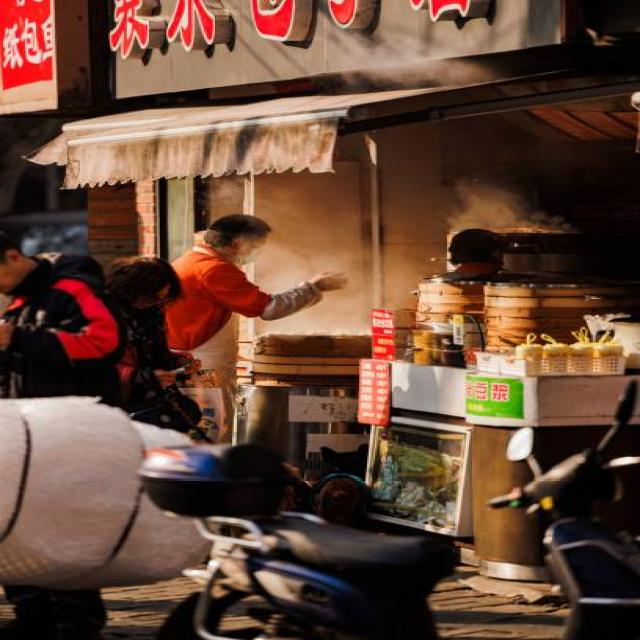Emperan: (56, 0, 640, 615)
